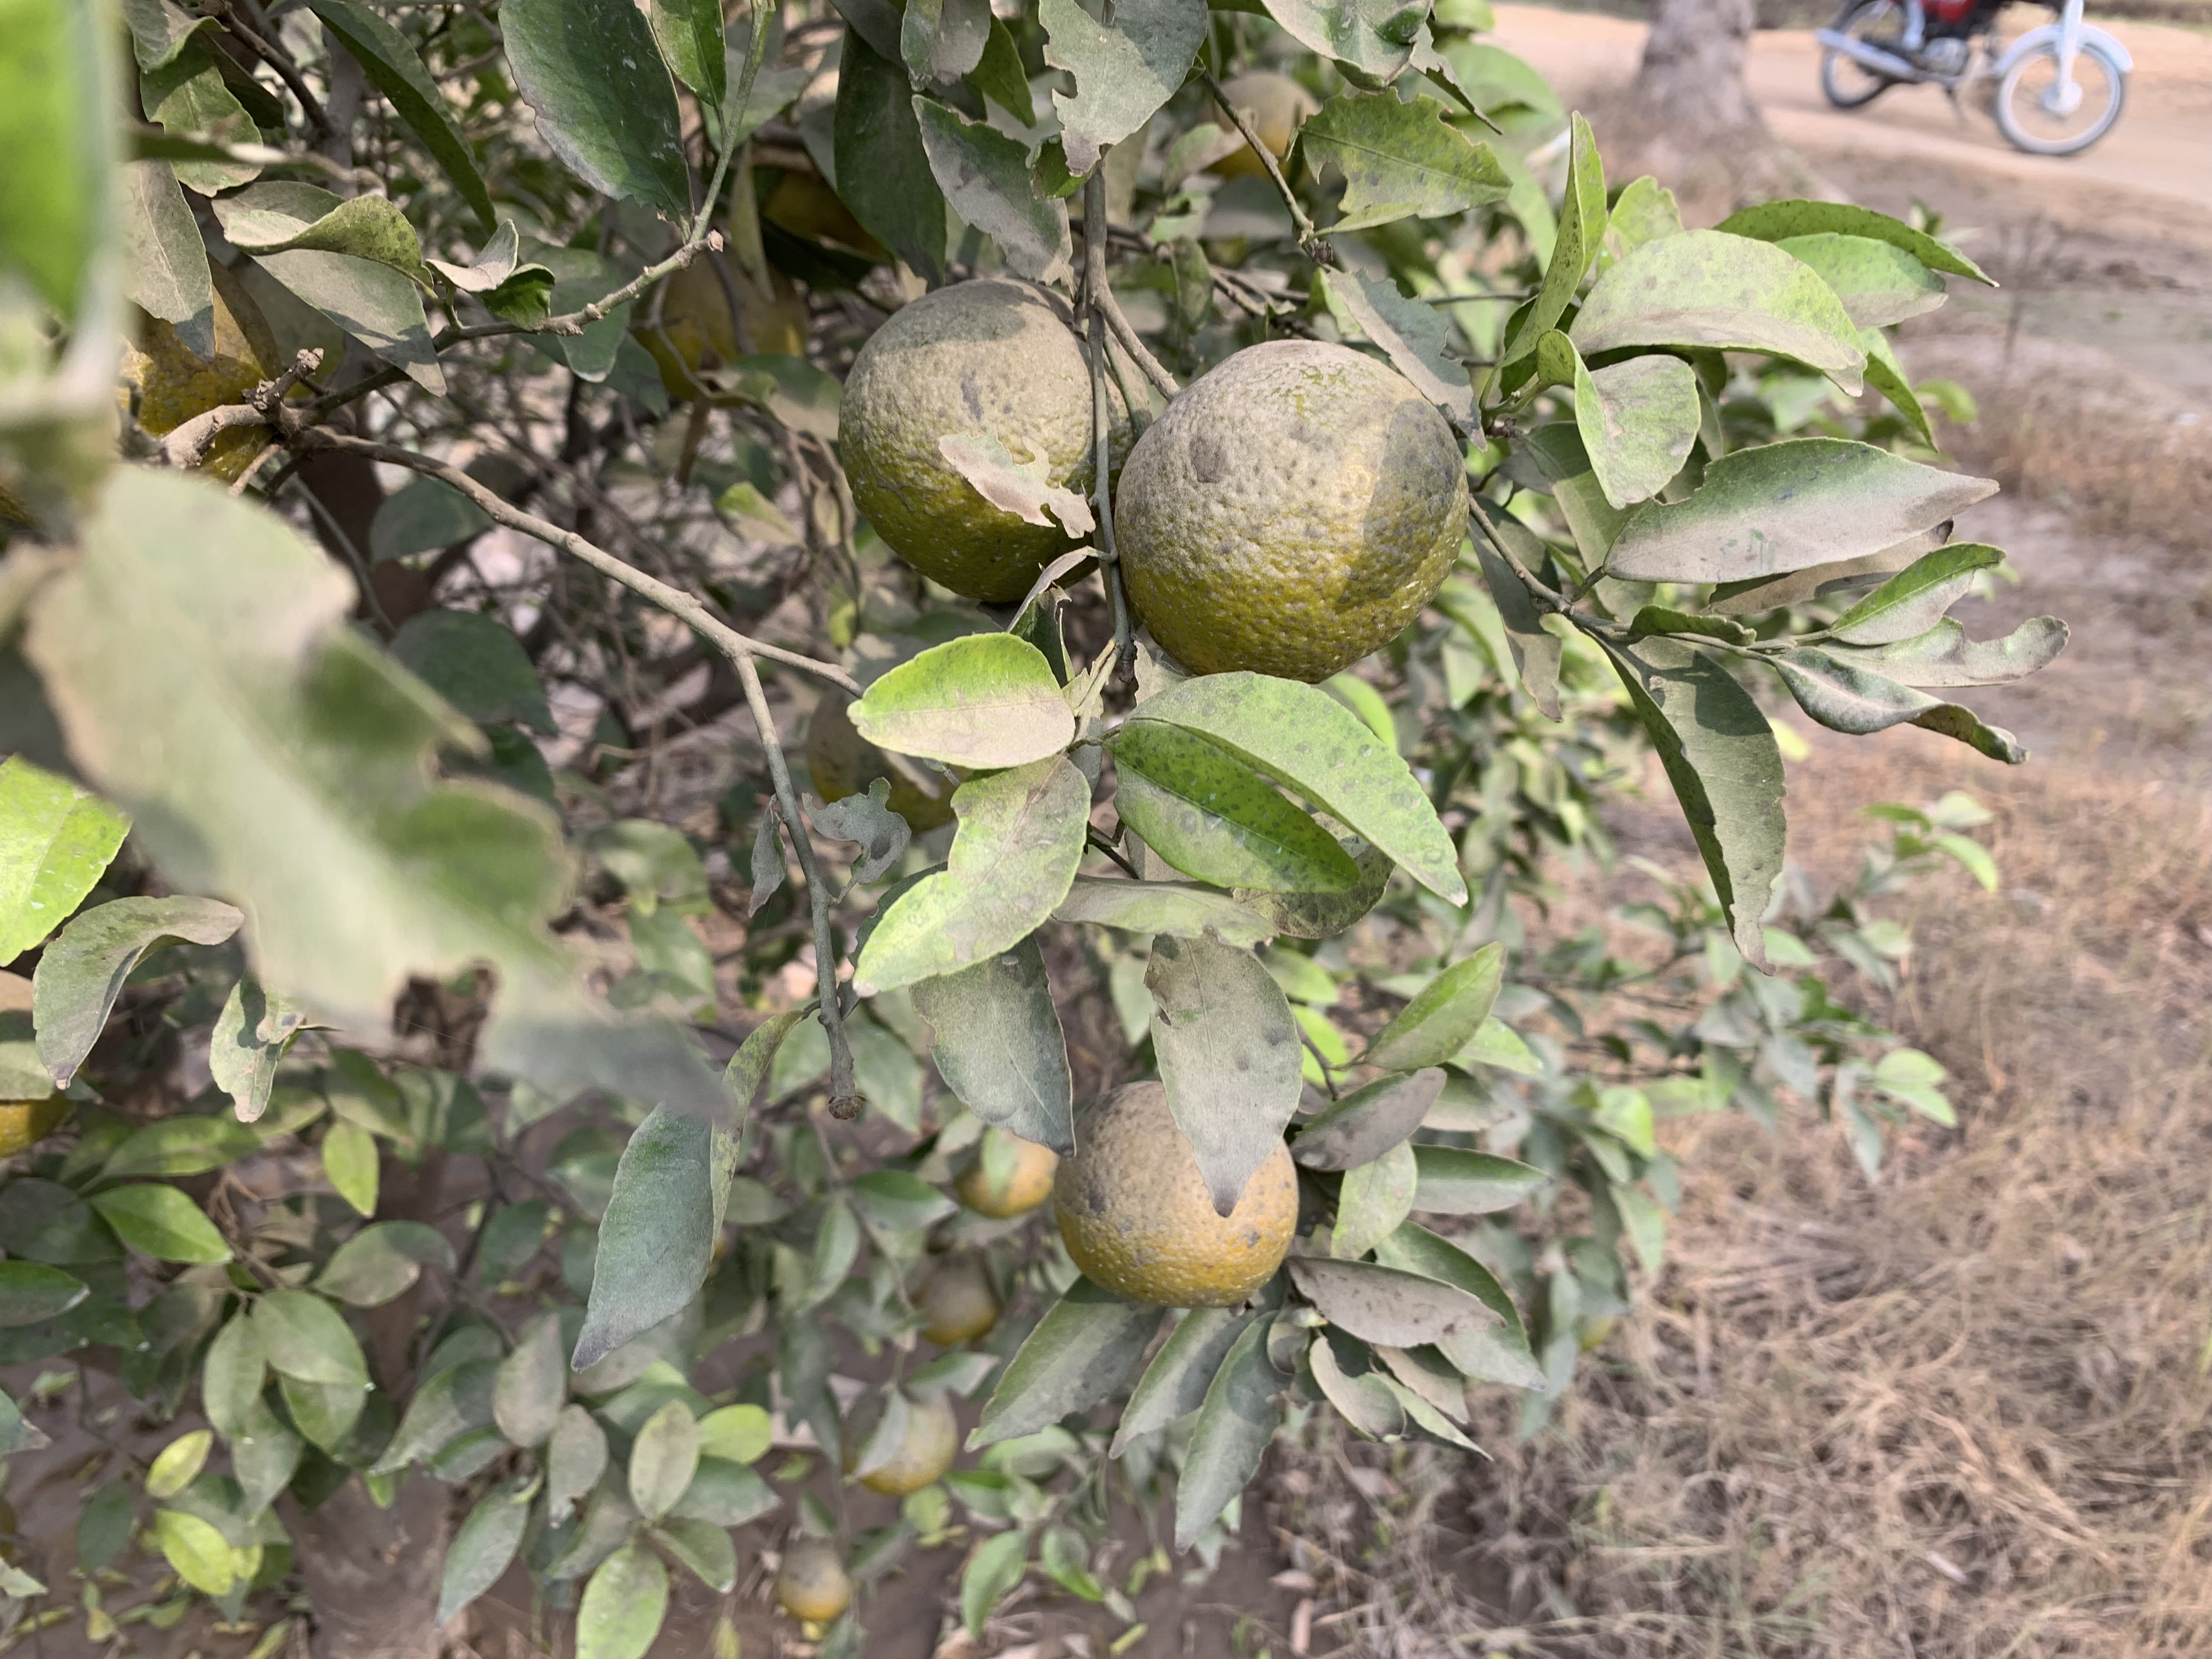orange: (1113, 342, 1468, 685), (838, 275, 1151, 603), (1054, 1077, 1301, 1307), (117, 251, 284, 491), (629, 239, 808, 410), (202, 213, 348, 404), (808, 662, 972, 830), (1193, 71, 1324, 188), (765, 171, 888, 289), (845, 1387, 956, 1492), (958, 1127, 1052, 1218), (914, 1255, 998, 1345), (777, 1549, 853, 1624)
